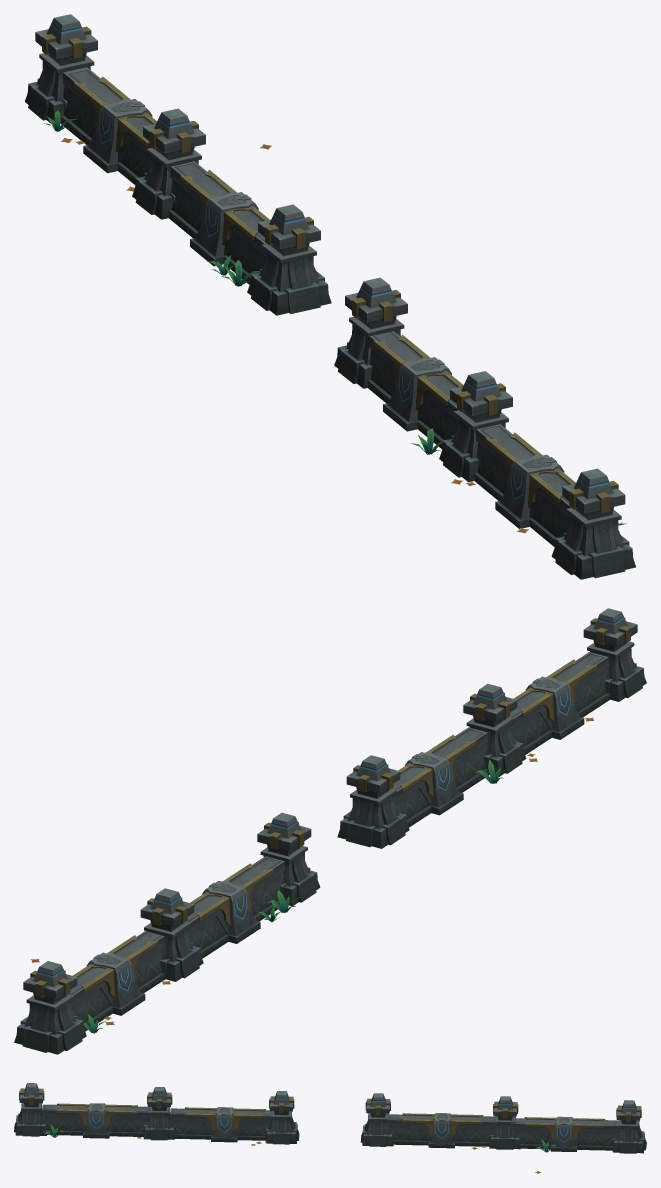
The model's file is 1Moba_hulan03.FBX.
3 renders of one model, top to bottom at view 1: azimuth 30°, elevation 25°; view 2: azimuth 150°, elevation 25°; view 3: azimuth 270°, elevation 25°, orthographic. The views are drawn at different scales.
Visible parts, largest first — view 1: 1Moba_hulan03; view 2: 1Moba_hulan03; view 3: 1Moba_hulan03.
Part boxes in pixels (x1,y1,x2,y2): 1Moba_hulan03: (24, 14, 635, 579); 1Moba_hulan03: (14, 608, 646, 1054); 1Moba_hulan03: (14, 1083, 646, 1173).
Size of the model in its own units: 177 by 69.75 by 902.
1 material, 1 textured.
